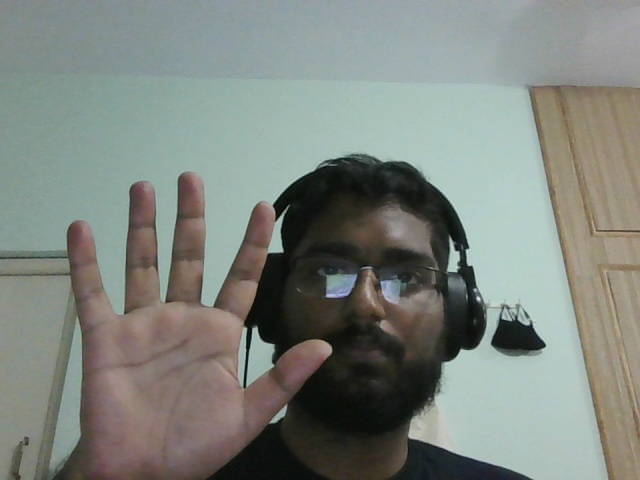Hello: (42, 159, 333, 456)
